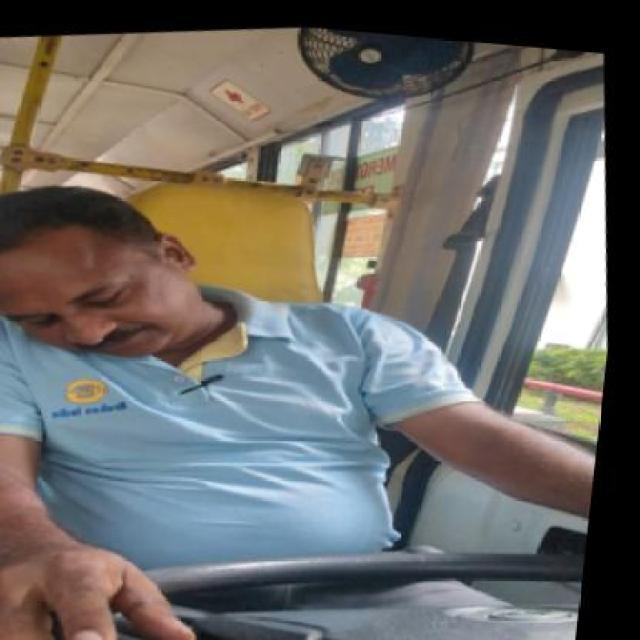Inattentive: (3, 173, 197, 369)
